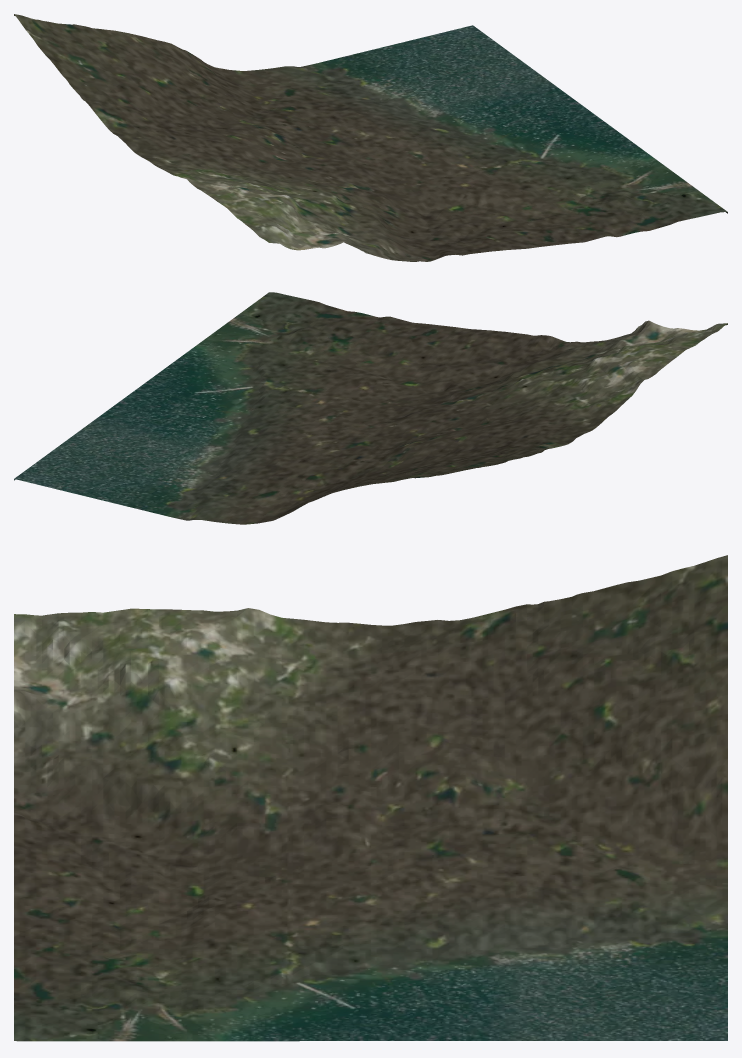
3 renders of one model, top to bottom at view 1: azimuth 30°, elevation 25°; view 2: azimuth 150°, elevation 25°; view 3: azimuth 270°, elevation 25°, orthographic. The views are drawn at different scales.
Size of the model in its own units: 250 by 65.22 by 241.
1 material, 1 textured.
